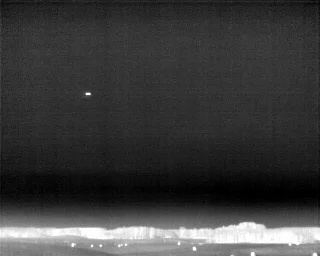AIRPLANE: (83, 90, 93, 98)
